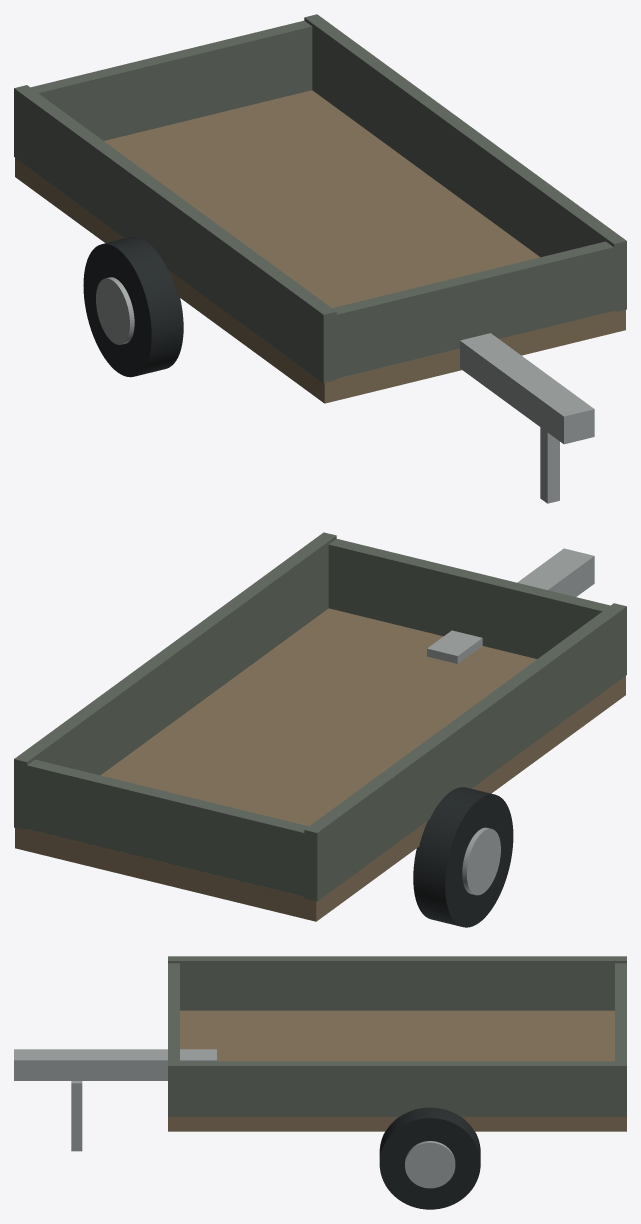
Rendered from unhitched_utility_trailer.glb.
3 renders of one model, top to bottom at view 1: azimuth 30°, elevation 25°; view 2: azimuth 150°, elevation 25°; view 3: azimuth 270°, elevation 25°, orthographic. The views are drawn at different scales.
Visible parts, largest first — view 1: Trailer floor, Cargo rail, Cargo rail.001, End panel, End panel.001, Tire.012, Towing tongue, Hub.012, Dropped jack; view 2: Trailer floor, Cargo rail, Cargo rail.001, End panel.001, End panel, Tire.012, Towing tongue, Hub.012; view 3: Trailer floor, Cargo rail.001, Cargo rail, Tire.013, Towing tongue, Hub.013, End panel, End panel.001, Dropped jack.
Boxes of the visible parts, x1,y1,x2,y2 form: Trailer floor: (15, 90, 625, 403); Cargo rail: (14, 85, 336, 383); Cargo rail.001: (304, 14, 626, 312); End panel: (332, 241, 613, 378); End panel.001: (30, 20, 312, 140); Tire.012: (83, 236, 183, 377); Towing tongue: (460, 333, 594, 444); Hub.012: (96, 277, 134, 344); Dropped jack: (540, 427, 559, 503); Trailer floor: (15, 608, 625, 921); Cargo rail: (304, 603, 626, 901); Cargo rail.001: (14, 532, 336, 830); End panel.001: (27, 759, 308, 896); End panel: (328, 539, 610, 658); Tire.012: (413, 787, 513, 927); Towing tongue: (427, 548, 594, 663); Hub.012: (462, 827, 500, 895); Trailer floor: (168, 1010, 626, 1131); Cargo rail.001: (168, 1061, 626, 1116); Cargo rail: (168, 956, 626, 1010); Tire.013: (379, 1107, 480, 1209); Towing tongue: (14, 1049, 216, 1080); Hub.013: (405, 1141, 455, 1188); End panel: (168, 963, 179, 1061); End panel.001: (615, 963, 626, 1061); Dropped jack: (71, 1081, 82, 1151).
Bounding box in the file's own units: 1.85 × 0.855 × 3.57.
